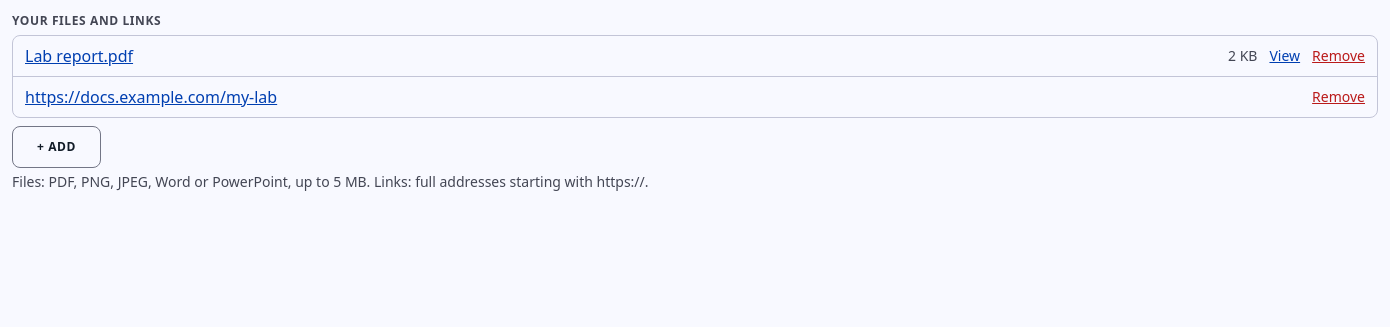
Test: adding a link › explains the server's refusal by its reason
Click the button "+ Add": (56,147) [12,126,101,168]
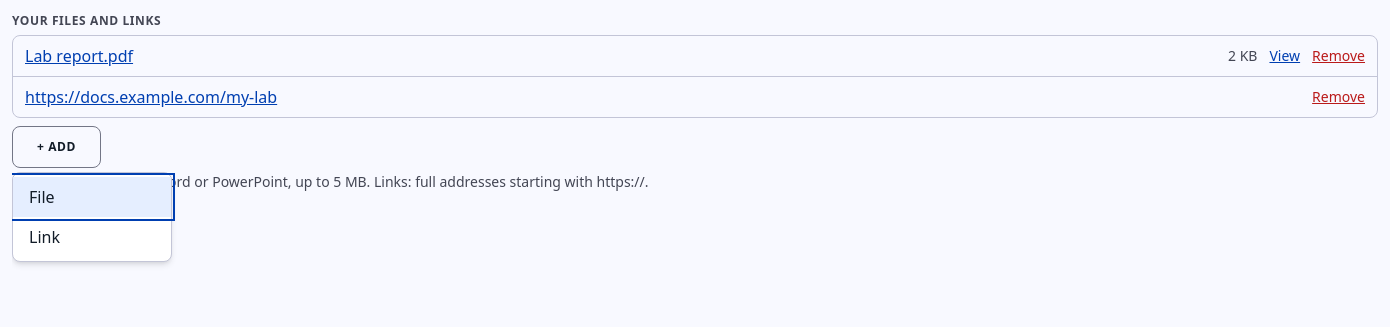
Click the menu item "Link": (92,237) [13,217,171,257]
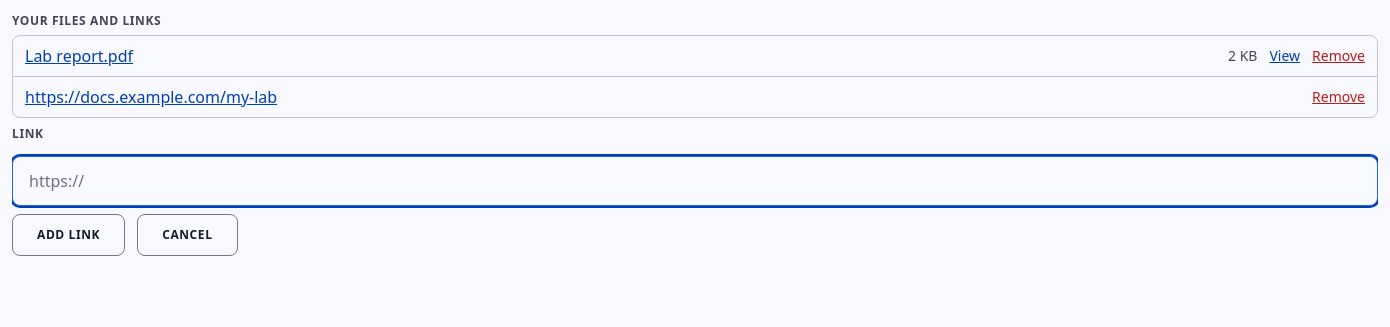
In the field labelled "Link": (695,181) [12,156,1378,206], type "https://example.com/6"
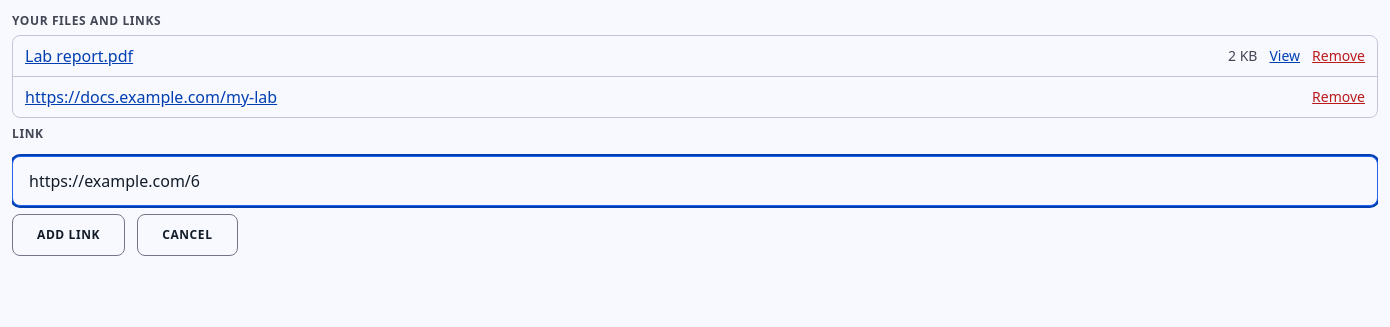
Click the button "Add link": (69,235) [12,214,125,256]
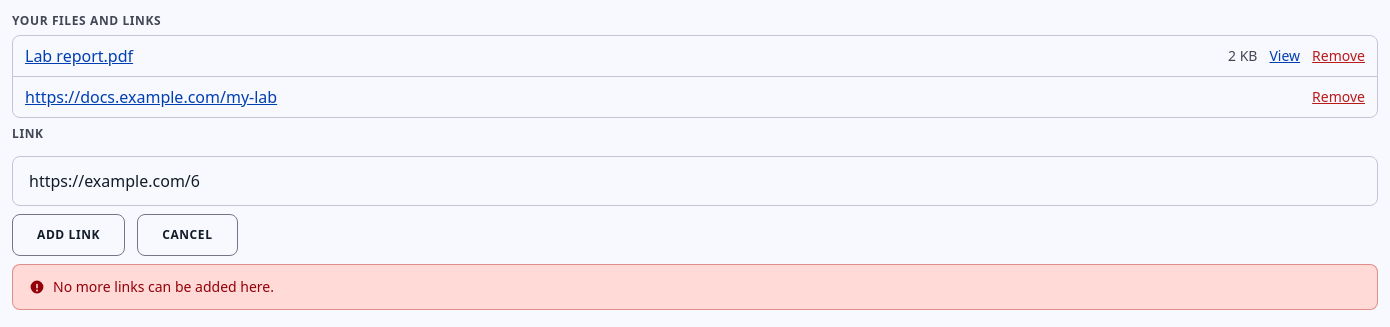
Expected: the message reads "No more links can be added here.", [53,277,274,296]
